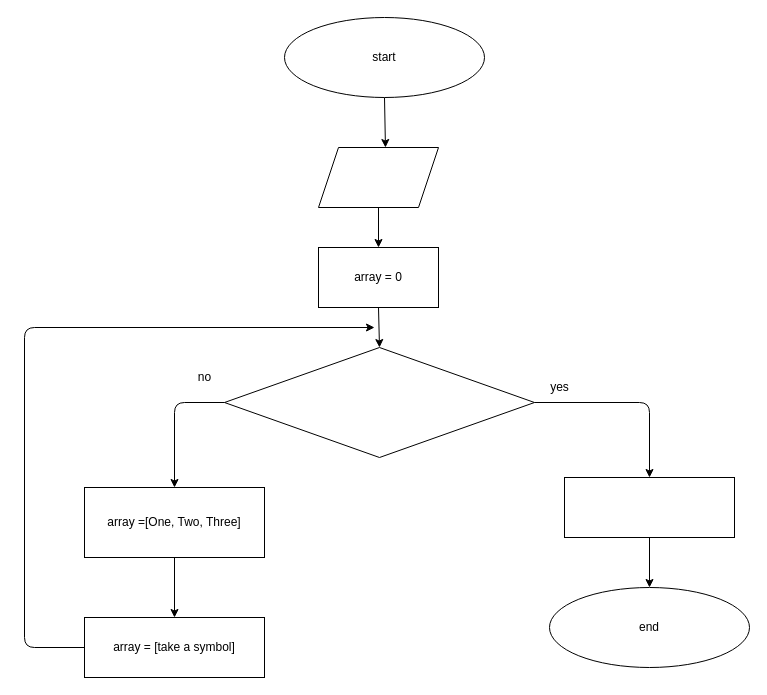
The diagram is 767 pixels wide and 695 high, and some of its shapes have lost their labels. The shapes that lost their labels are listed below. From the top down, each one's centre as x and y in pixels, then its label:
(378,177): Ввод массива
(379,402): if array =[One, Two, Three]
(649,507): array = [symbolOne, symbolTwo, symbolThree]
